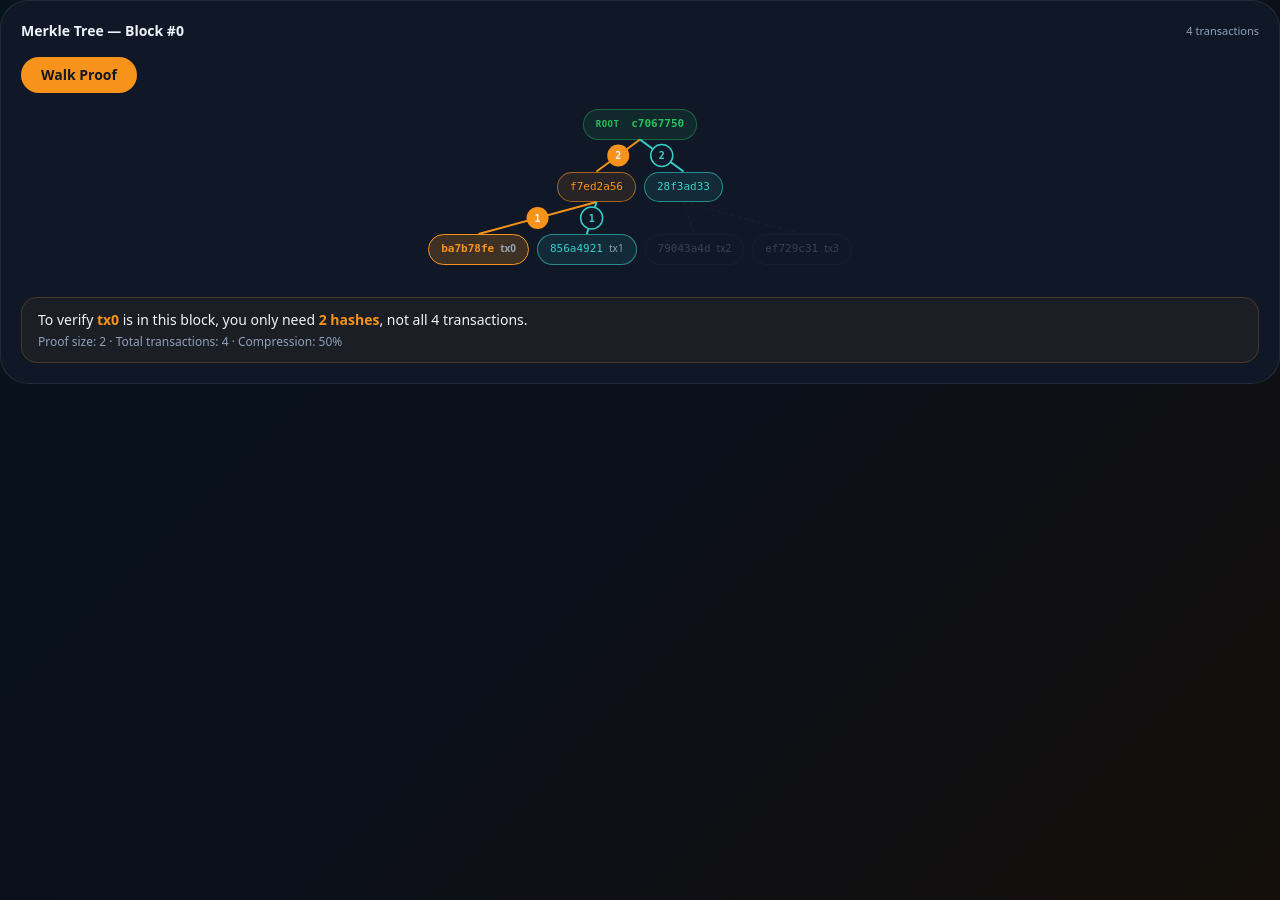
MerkleTreePanel › AC: stepping forward advances the step counter
The width and height of the screenshot is (1280, 900).
Click the button with aria-label "walk through proof steps".
click(79, 75)  # box [21, 57, 137, 93]
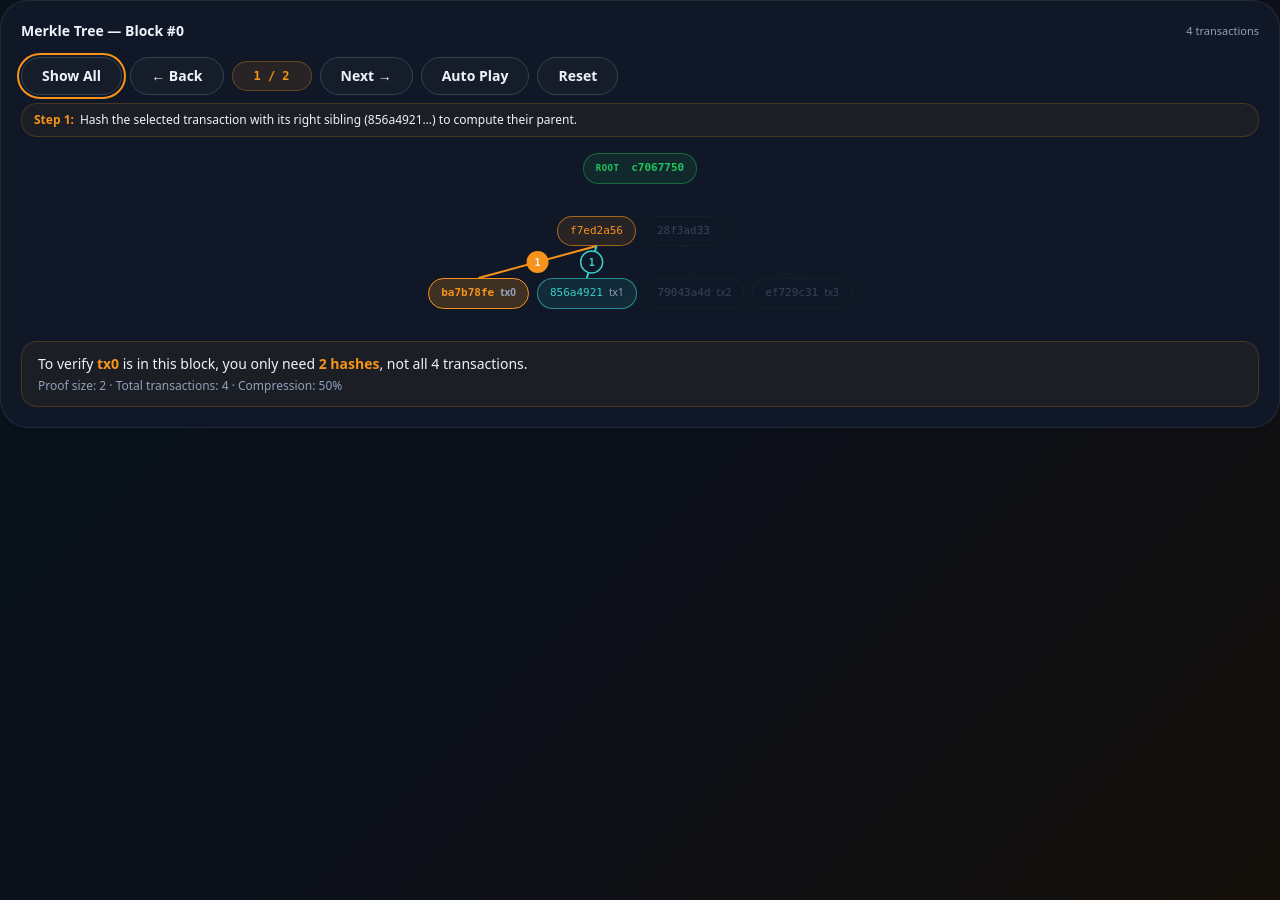
Check: the text "1 / 2" is shown, box [232, 61, 312, 91]
Click the button with aria-label "next proof step".
click(366, 76)  # box [320, 57, 413, 95]
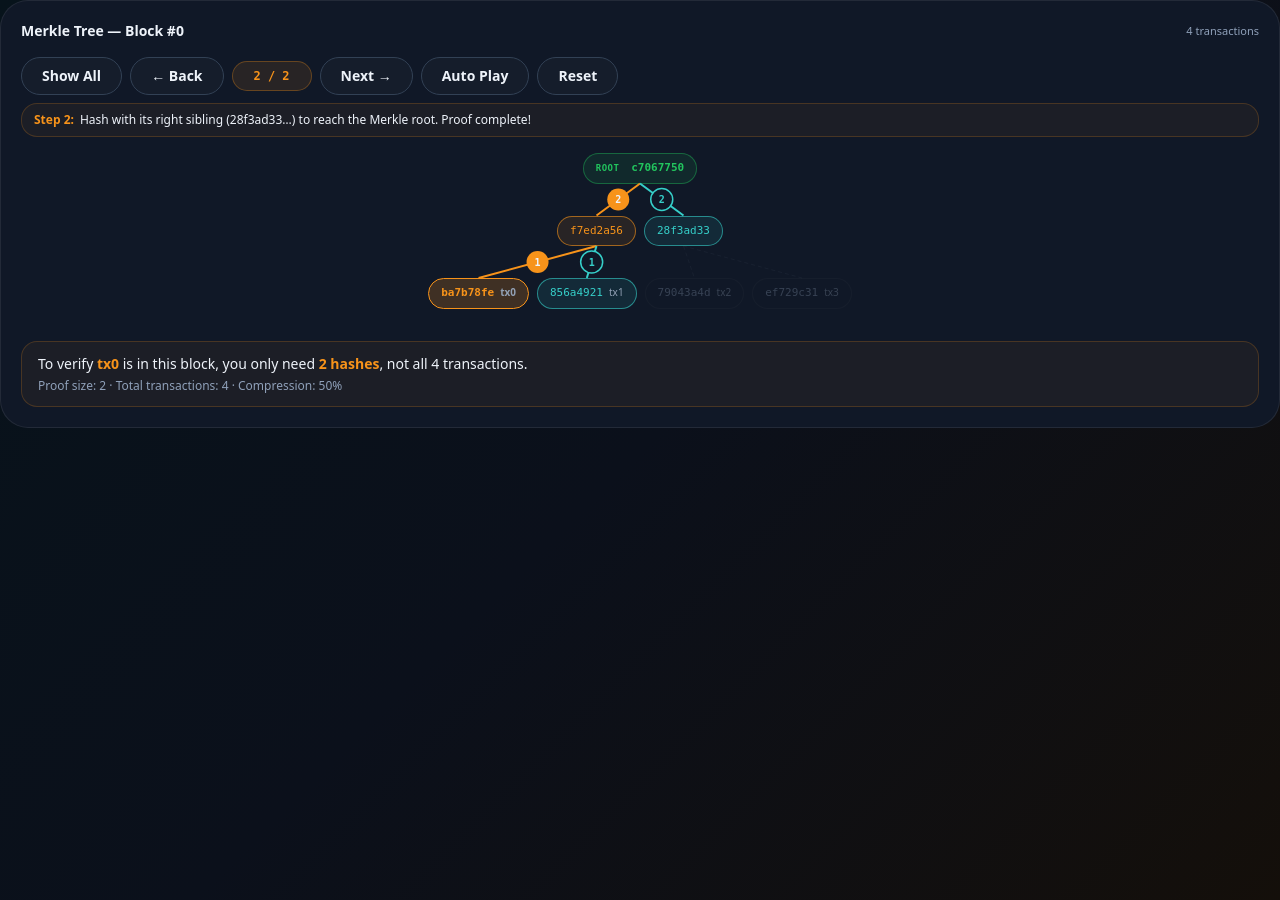
Check: the text "2 / 2" is shown, box [232, 61, 312, 91]
